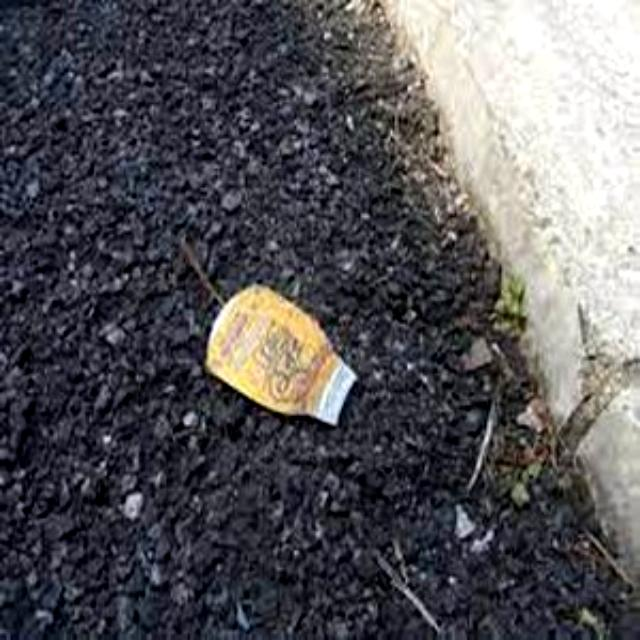Metal: (202, 278, 360, 434)
